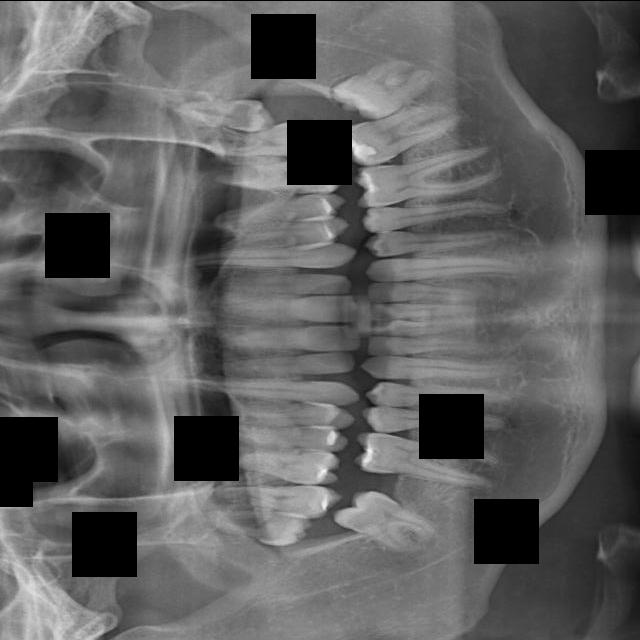3M ESPE Implant: (187, 502, 315, 553)
AGS Medikal Implant: (411, 128, 412, 129)
AMerOss Implant: (350, 143, 504, 210)
Amalgam filling: (210, 483, 344, 519)
Anthogyr Implant: (357, 190, 511, 234)
Bicon Implant: (358, 214, 521, 260)
BioHorizons Implant: (362, 255, 531, 281)
BioLife Implant: (365, 280, 487, 302)
Biomet 3i Implant: (370, 302, 477, 318)
Blue Sky Bio Implant: (370, 316, 476, 337)
Camlog Implant: (367, 336, 495, 357)
Caries: (200, 272, 353, 294)
Composite filling: (357, 355, 525, 379)
Cowellmedi Implant: (363, 379, 514, 415)
Crown: (358, 405, 513, 441)
DENTSPLY Implant: (170, 440, 345, 493)
Dentatus Implant: (349, 427, 507, 491)
Dentium Implant: (327, 474, 445, 565)
Euroteknika Implant: (216, 419, 353, 455)
Filling: (206, 396, 360, 430)
Frontier Implant: (146, 362, 363, 407)
Hiossen Implant: (150, 240, 359, 273)
Implant: (216, 324, 365, 351)
Implant Direct: (199, 350, 357, 381)
Keystone Dental Implant: (217, 294, 359, 322)
MIS Implant: (202, 213, 352, 257)
Mandible: (211, 188, 351, 230)
Maxilla: (200, 153, 348, 197)
Megagen Implant: (196, 116, 332, 165)
Neodent Implant: (165, 86, 278, 136)
Neoss Implant: (401, 73, 403, 73)
